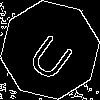U: (25, 25, 82, 84)
